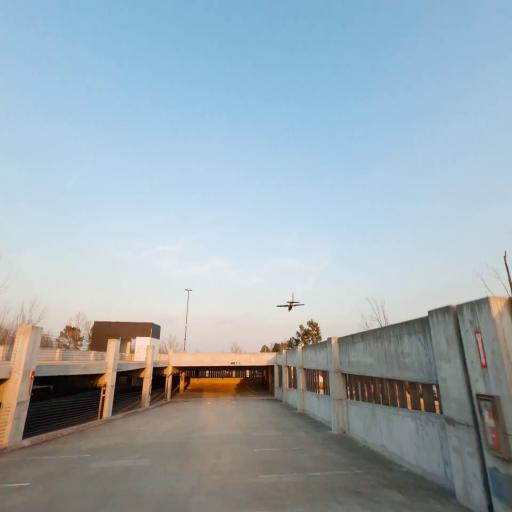uav: (272, 285, 306, 319)
